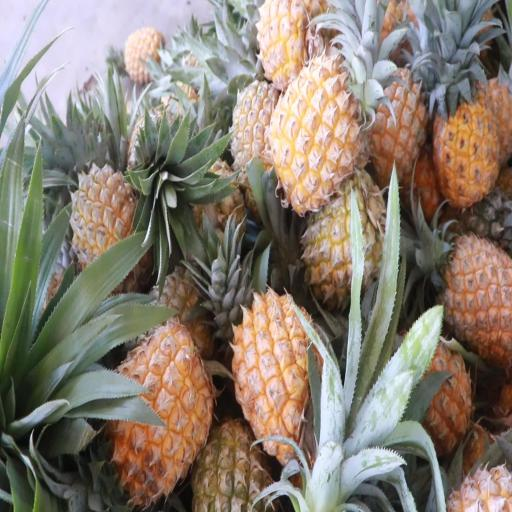------------------------------: (304, 179, 389, 300)
Pineapple - v8 v1: (93, 332, 210, 495), (232, 291, 323, 449), (276, 59, 363, 208), (426, 234, 512, 343), (396, 332, 472, 455), (365, 56, 430, 176), (436, 88, 502, 204), (259, 0, 327, 82)
